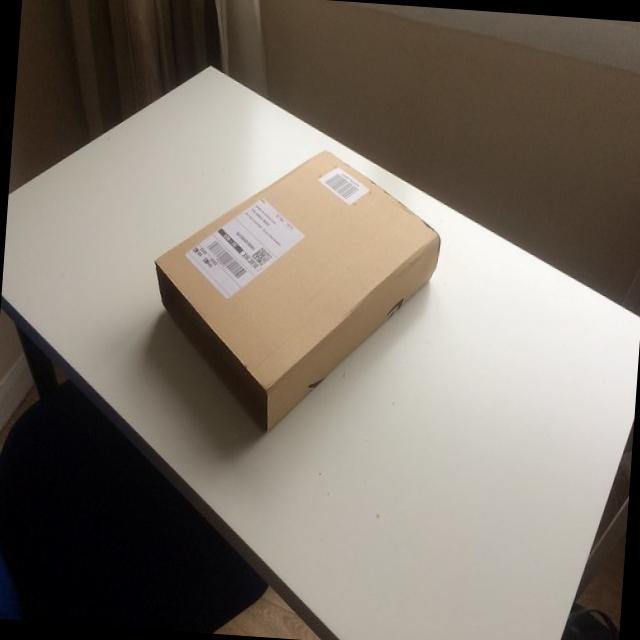Recycle: (142, 139, 446, 446)
